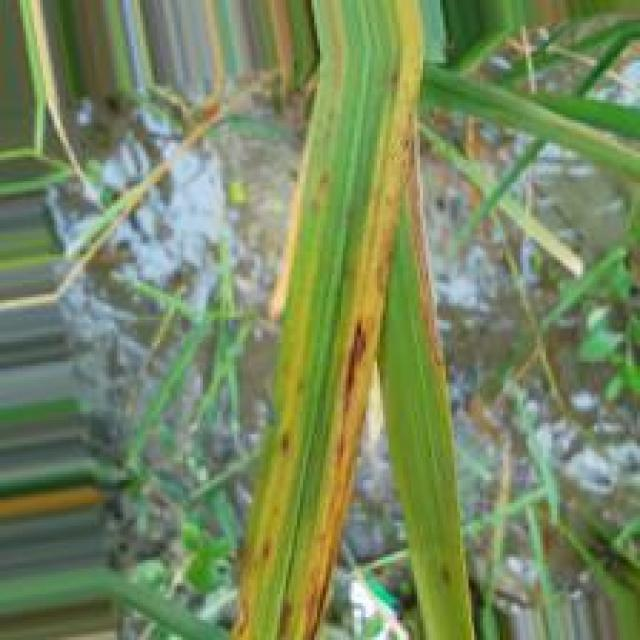Narrow_Brown_Leaf_Spot: (273, 39, 446, 633), (229, 399, 306, 640)
